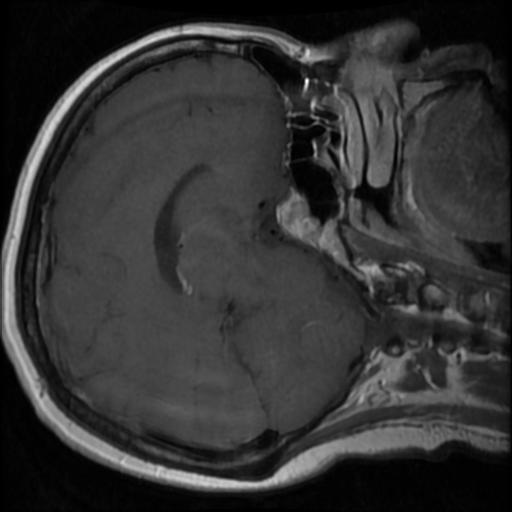pituitary tumour: (274, 189, 320, 237)
